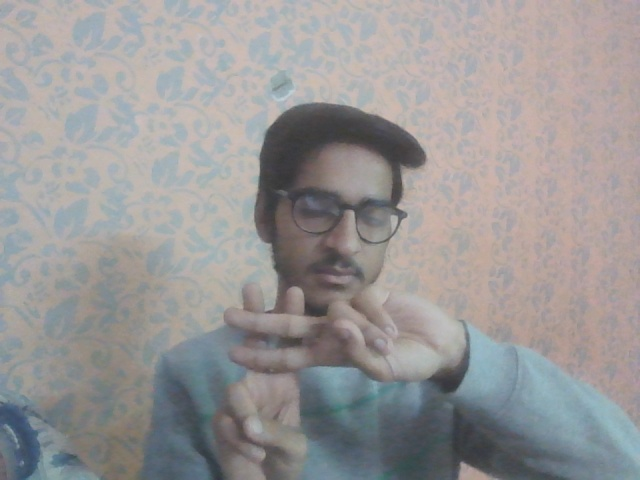HackJMI: (206, 276, 461, 480)
